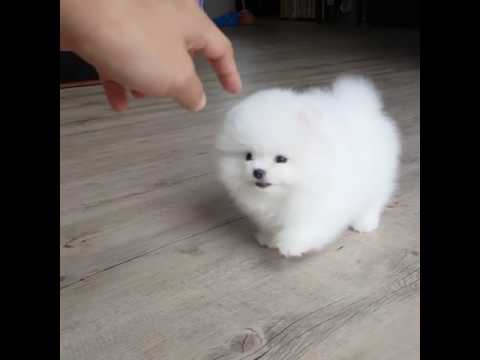pomeranian: (211, 57, 406, 259)
